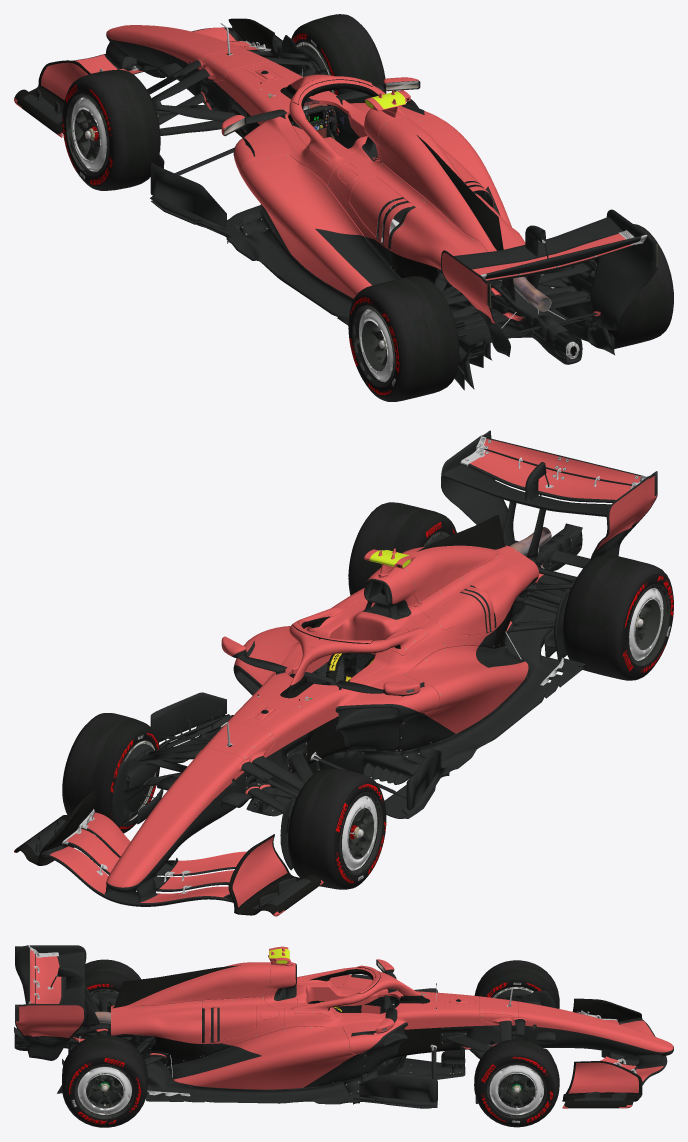
The model's file is f1_crest.glb.
3 views of the same model, one above another, from view 1: azimuth 30°, elevation 25°; view 2: azimuth 150°, elevation 25°; view 3: azimuth 270°, elevation 25° (orthographic). The views are drawn at different scales.
Parts seen in each view (by area): view 1: Body, Wheel_RL, Wheel_FL, Wheel_FR, Wheel_RR, SteeringWheel; view 2: Body, Wheel_RL, Wheel_FL, Wheel_FR, Wheel_RR; view 3: Body, Wheel_RR, Wheel_FR, Wheel_FL, Wheel_RL.
Part boxes in pixels (box(x1,y1,x2,y2)): Body: box(14, 18, 657, 390); Wheel_RL: box(348, 276, 459, 401); Wheel_FL: box(62, 70, 160, 190); Wheel_FR: box(291, 14, 386, 103); Wheel_RR: box(589, 224, 673, 349); SteeringWheel: box(291, 105, 336, 131); Body: box(14, 430, 657, 916); Wheel_RL: box(563, 554, 673, 680); Wheel_FL: box(288, 768, 386, 889); Wheel_FR: box(62, 713, 159, 833); Wheel_RR: box(348, 502, 456, 595); Body: box(14, 945, 673, 1108); Wheel_RR: box(62, 1034, 147, 1127); Wheel_FR: box(474, 1039, 559, 1127); Wheel_FL: box(474, 960, 559, 1008); Wheel_RL: box(84, 959, 140, 994).
Size of the model in its own units: 1.9 by 1.2 by 5.45.
26 materials, 24 textured.
